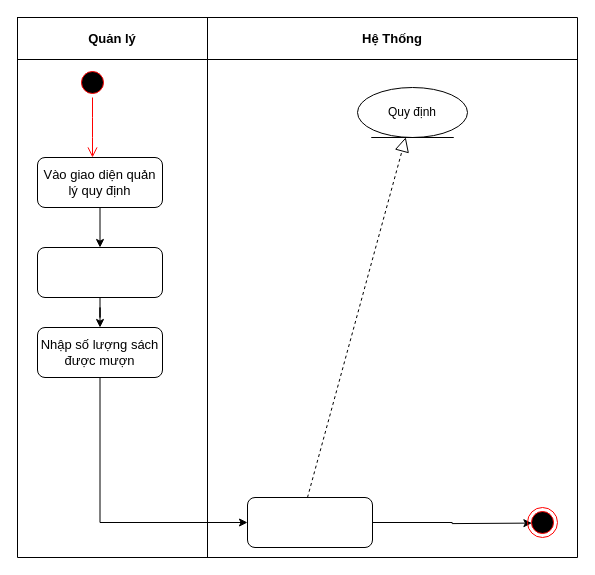
Some shapes in this 595 by 575 pixel diagram are drawn without their labels. The shapes that lost their labels are listed below. From the top down, each one's centre as x and y in pixels, then its label:
At (x=99, y=272): "Nhập tên quy định".
At (x=309, y=522): "Cập nhật lại danh mục quy định".
